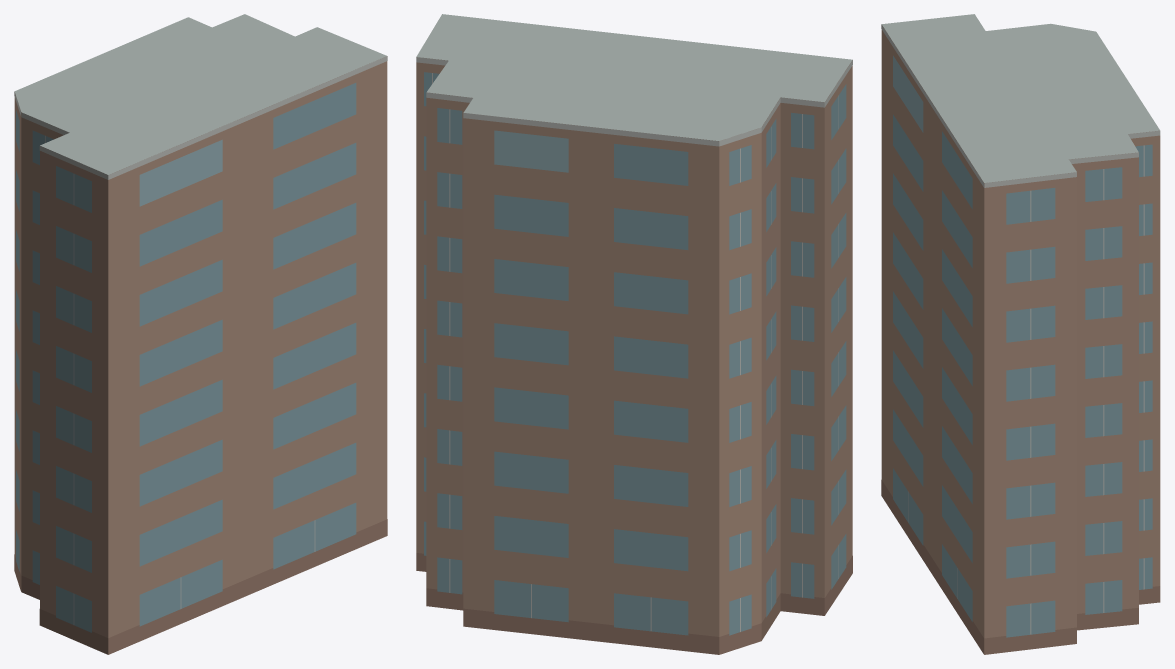
Rendered from survey-upis-32529394.glb.
3 renders of one model, left to right at view 1: azimuth 30°, elevation 25°; view 2: azimuth 150°, elevation 25°; view 3: azimuth 270°, elevation 25°, orthographic. The views are drawn at different scales.
Parts seen in each view (by area): view 1: survey-upis-32529394.tmp; view 2: survey-upis-32529394.tmp; view 3: survey-upis-32529394.tmp.
Boxes of the visible parts, box(x1,y1,x2,y2) form: survey-upis-32529394.tmp: box(14, 14, 387, 654); survey-upis-32529394.tmp: box(416, 14, 852, 654); survey-upis-32529394.tmp: box(881, 14, 1160, 654).
Size of the model in its own units: 17.92 by 23.3 by 12.49.
